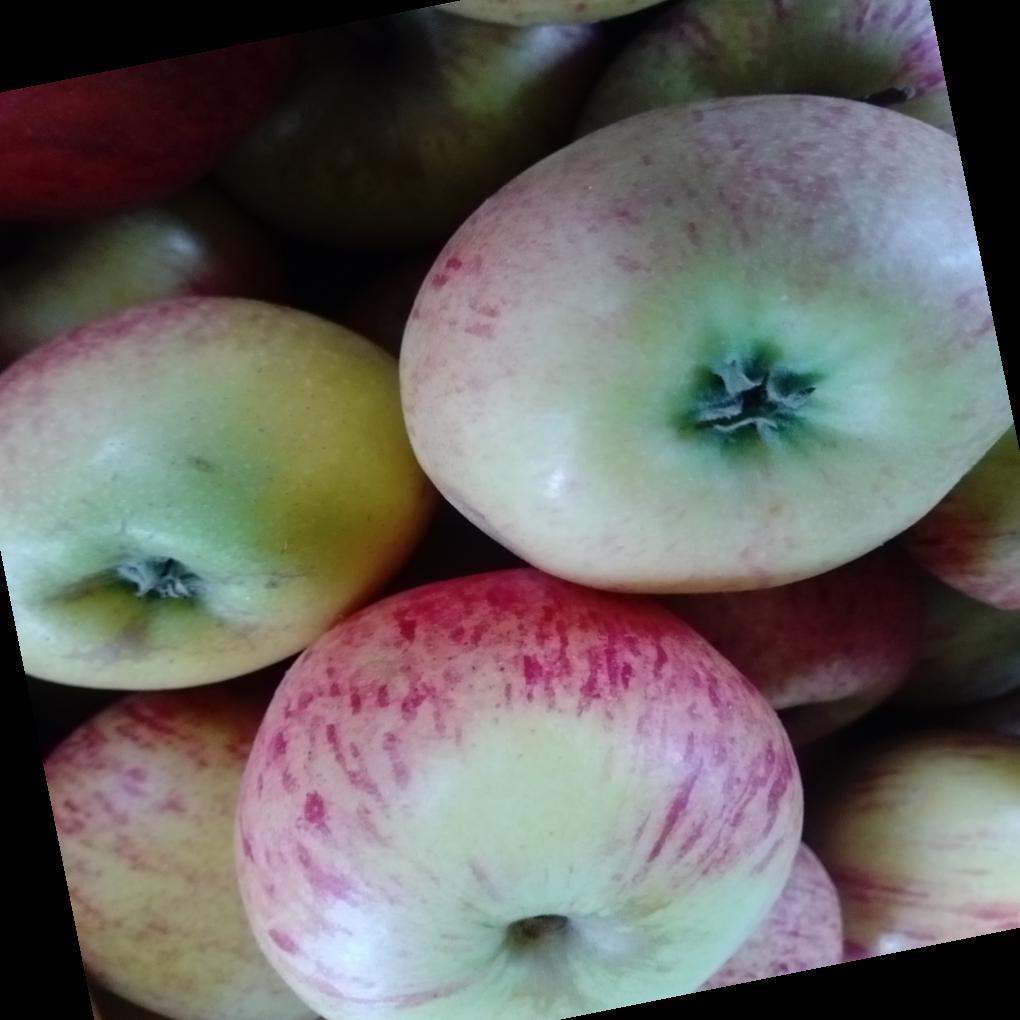FreshGuava: (21, 18, 1020, 1020)
